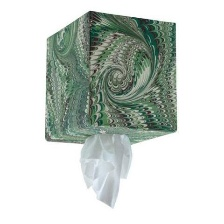plastic_box: (38, 6, 185, 151)
tissue: (74, 129, 137, 213)
